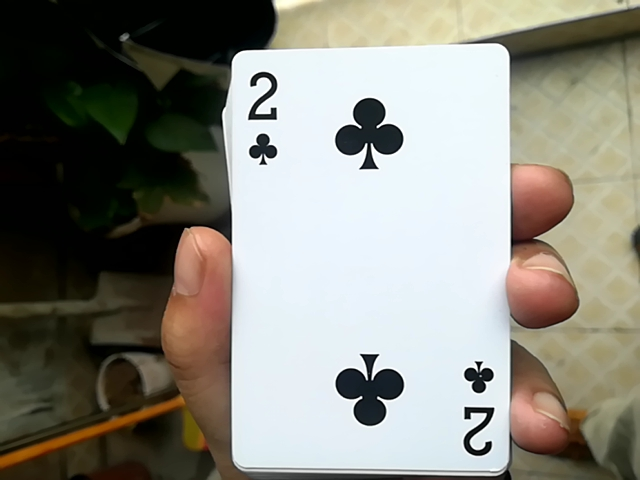mh 2: (219, 36, 509, 475)
